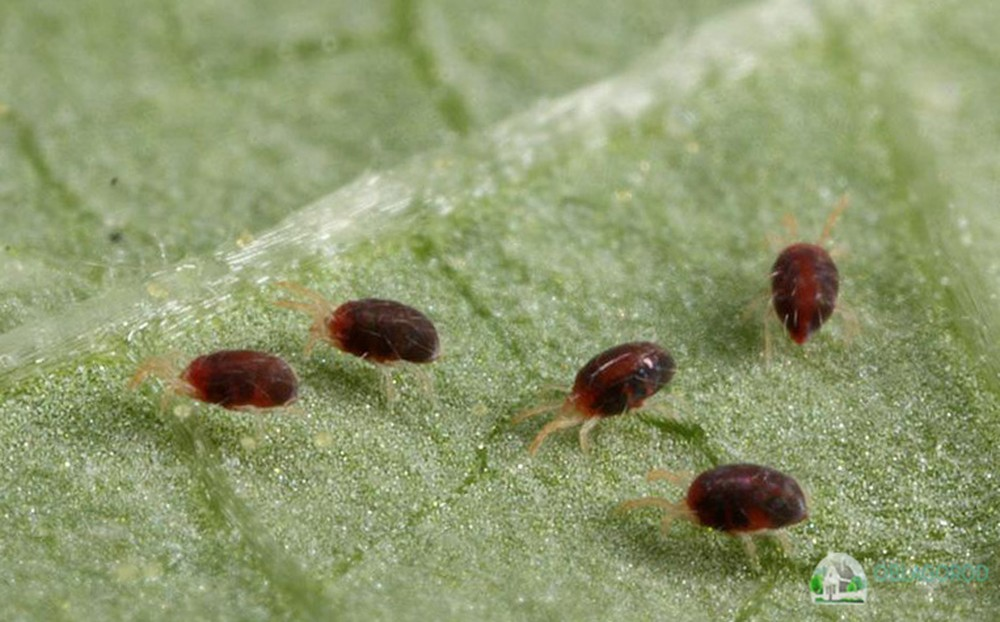Aracnido Rojo: (270, 272, 470, 416), (501, 327, 702, 455), (623, 453, 828, 571), (746, 187, 877, 359), (121, 332, 309, 435)
